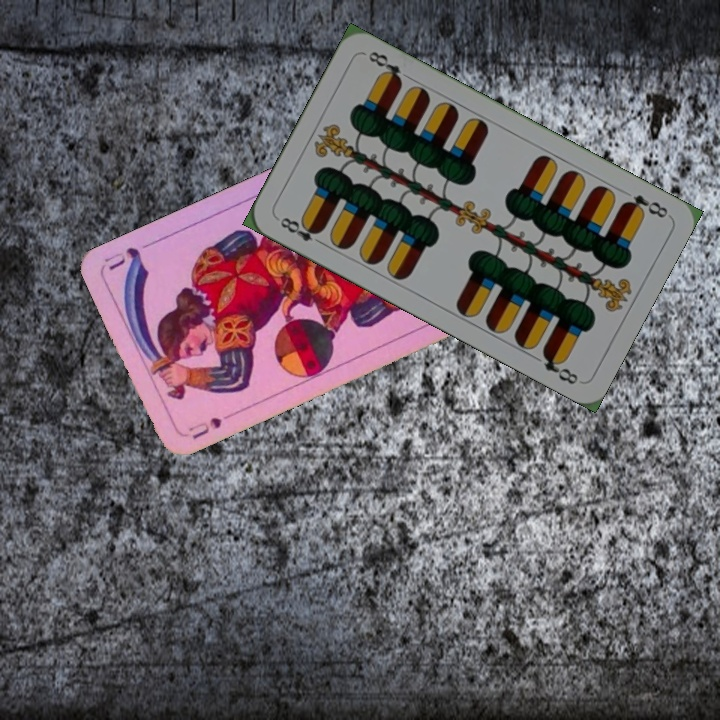E8: (276, 213, 327, 248), (619, 190, 671, 221)
SU: (184, 408, 237, 442)
